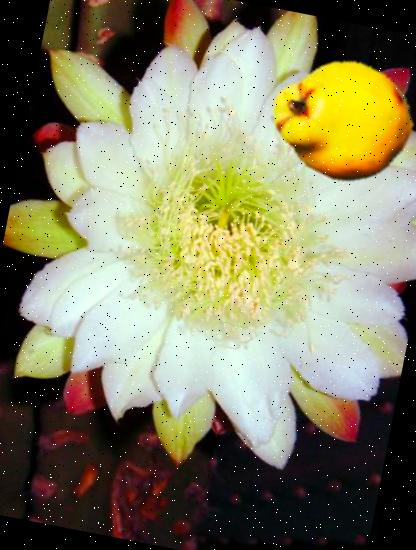Quince: (259, 34, 416, 202)
